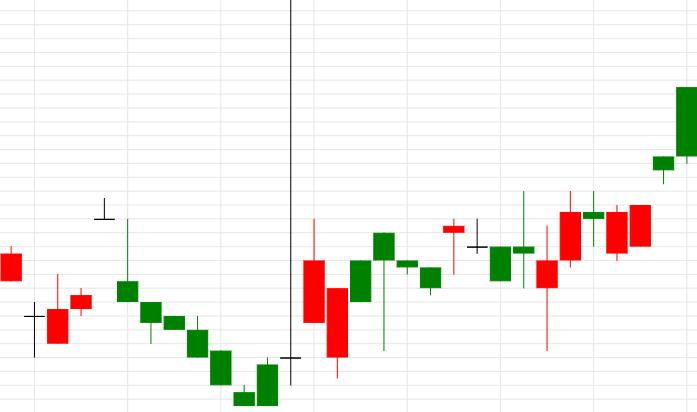hanging_man_fall: (281, 0, 395, 385)
